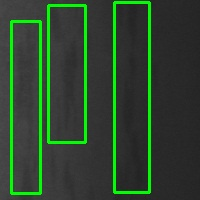inclusion: (114, 2, 149, 192), (48, 5, 85, 142), (12, 21, 40, 193)
